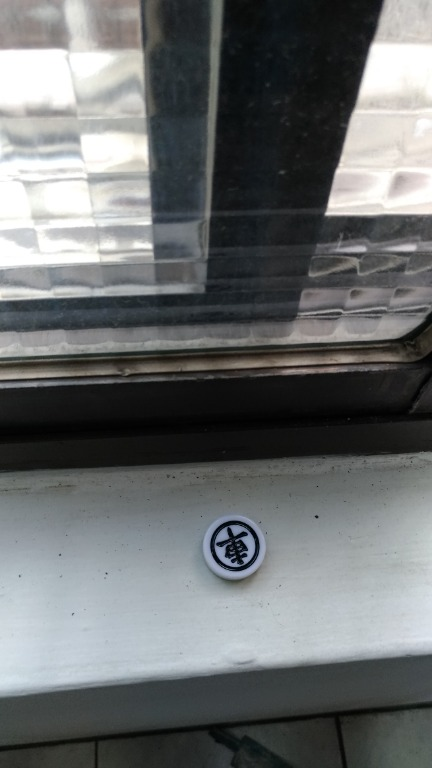b-king: (192, 510, 288, 595)
